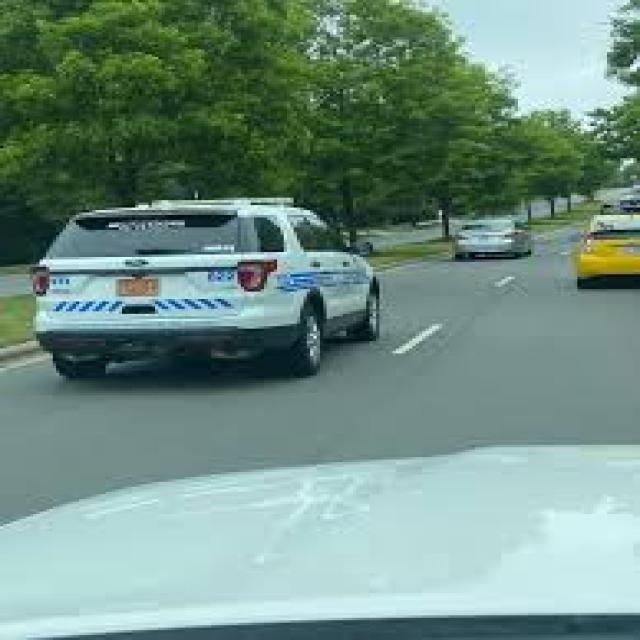cop: (23, 193, 391, 373)
